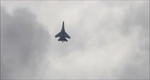maybay_muctieu: (56, 19, 71, 44)
